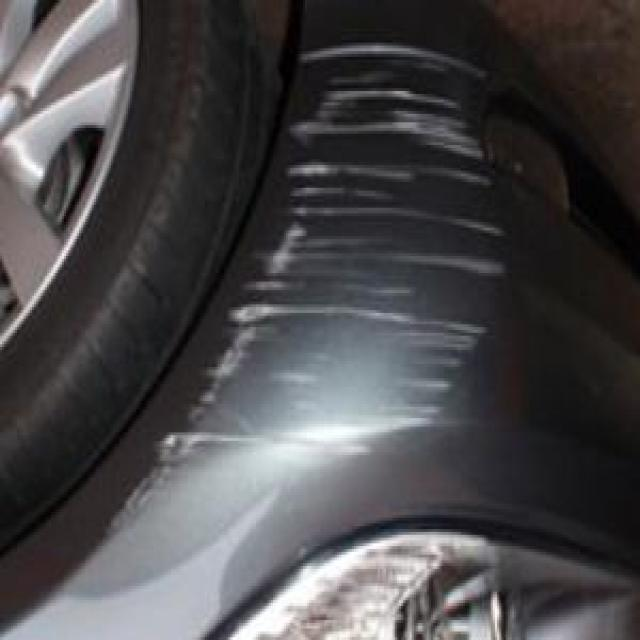scratch: (154, 30, 500, 505)
